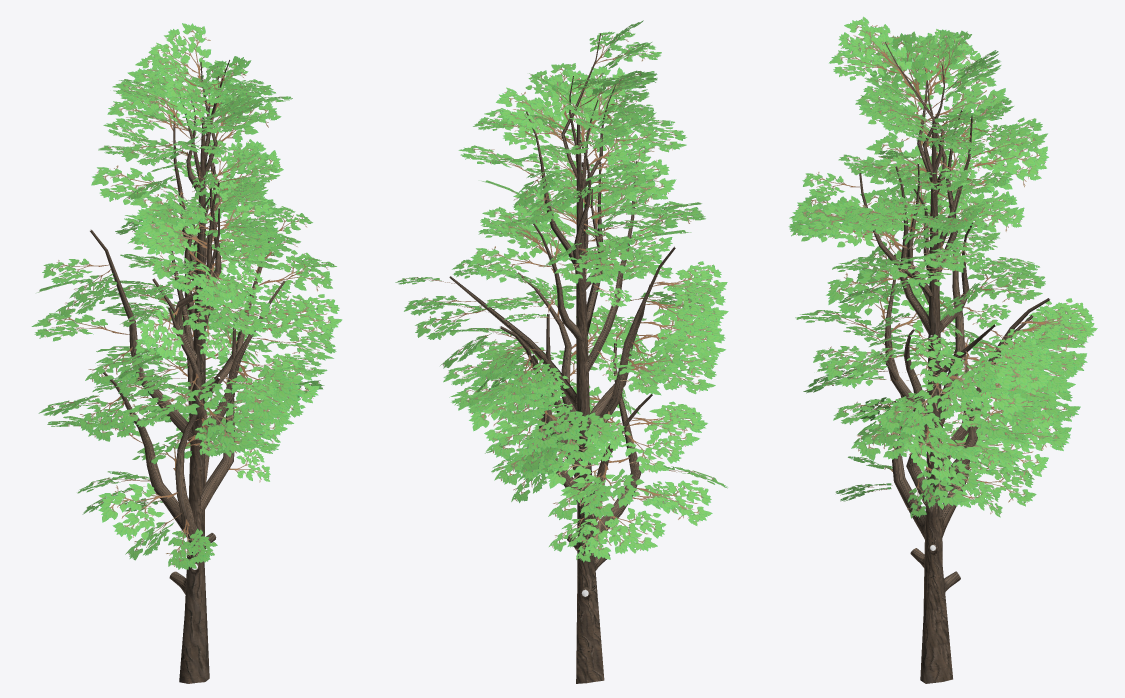
Rendered from tree-4.fbx.
3 renders of one model, left to right at view 1: azimuth 30°, elevation 25°; view 2: azimuth 150°, elevation 25°; view 3: azimuth 270°, elevation 25°, orthographic. The views are drawn at different scales.
Parts seen in each view (by area): view 1: tree_4; view 2: tree_4; view 3: tree_4.
Boxes of the visible parts, left/top/right/bottom form: tree_4: left=31, top=23, right=342, bottom=683; tree_4: left=395, top=20, right=728, bottom=683; tree_4: left=788, top=16, right=1097, bottom=683.
Size of the model in its own units: 20.94 by 40.15 by 18.79.
Materials: 3 (2 with a texture image).
